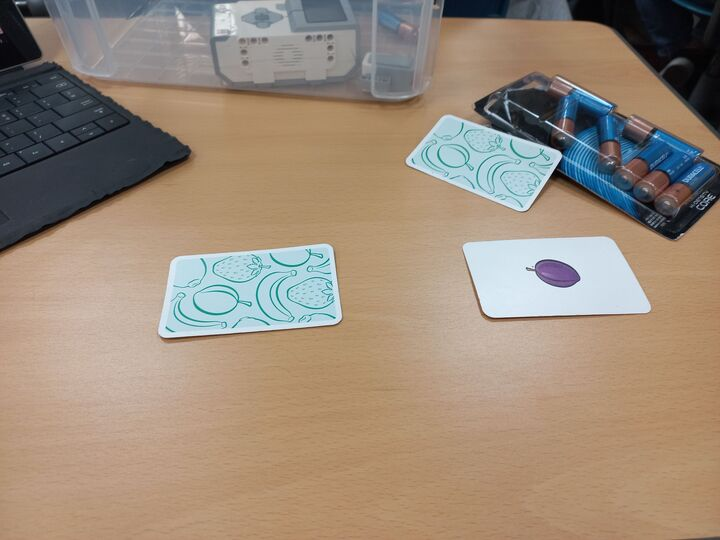plum1: (461, 232, 654, 321)
